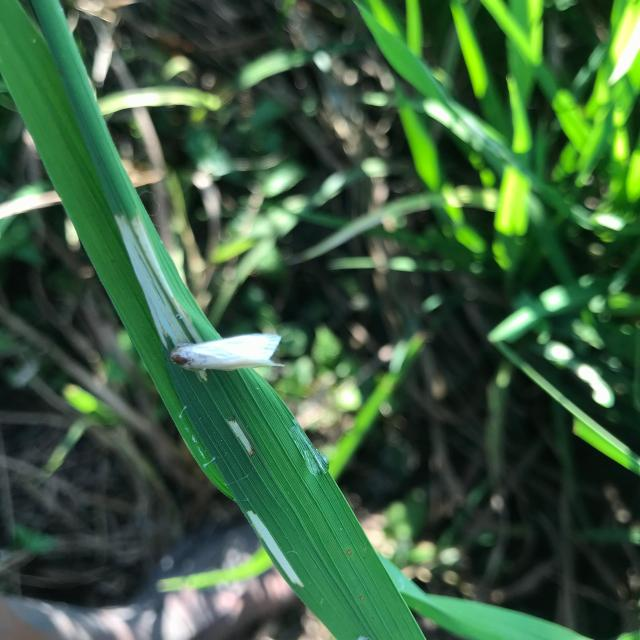wereng pada daun padi: (166, 329, 286, 381)
